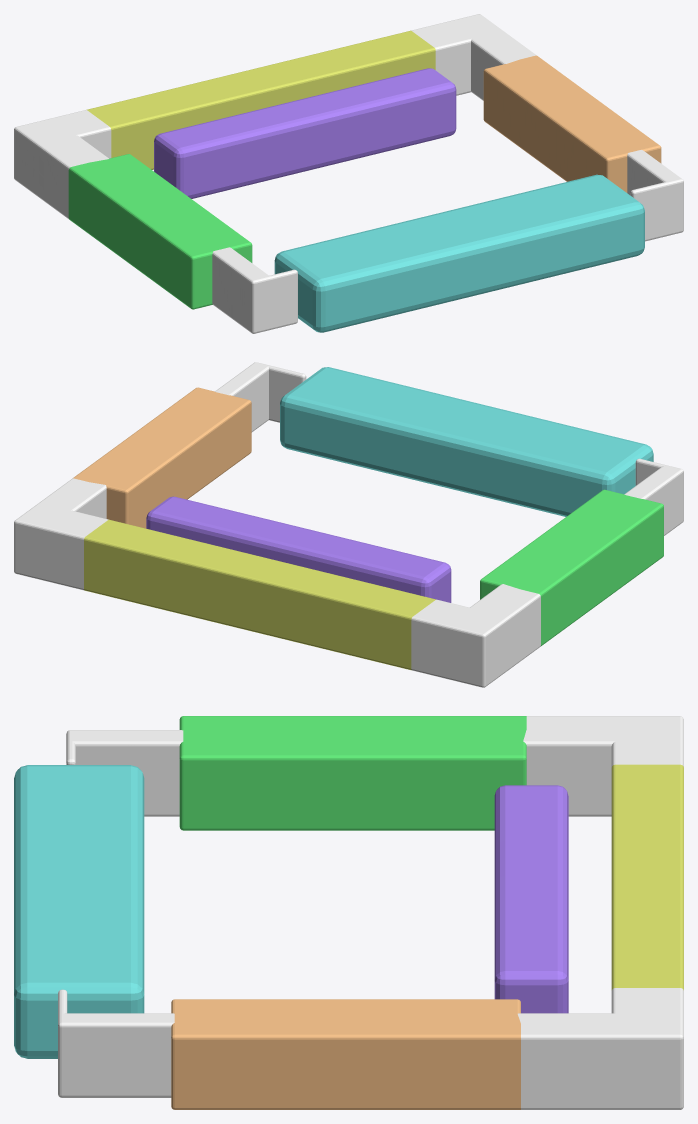
3 renders of one model, top to bottom at view 1: azimuth 30°, elevation 25°; view 2: azimuth 150°, elevation 25°; view 3: azimuth 270°, elevation 25°, orthographic. The views are drawn at different scales.
Visible parts, largest first — view 1: 706-723, 系所辦公室, 系學會教室; view 2: 706-723, 系所辦公室, 系學會教室; view 3: 706-723, 系所辦公室, 系學會教室.
Part boxes in pixels (box(x1,y1,x2,y2)): 706-723: box(14, 14, 683, 333); 系所辦公室: box(274, 174, 644, 332); 系學會教室: box(154, 68, 456, 198); 706-723: box(14, 362, 683, 687); 系所辦公室: box(280, 367, 653, 516); 系學會教室: box(146, 496, 451, 602); 706-723: box(58, 716, 683, 1109); 系所辦公室: box(14, 765, 144, 1058); 系學會教室: box(494, 785, 568, 1013).
Bounding box in the file's own units: 4.29 × 0.4657 × 3.78.
